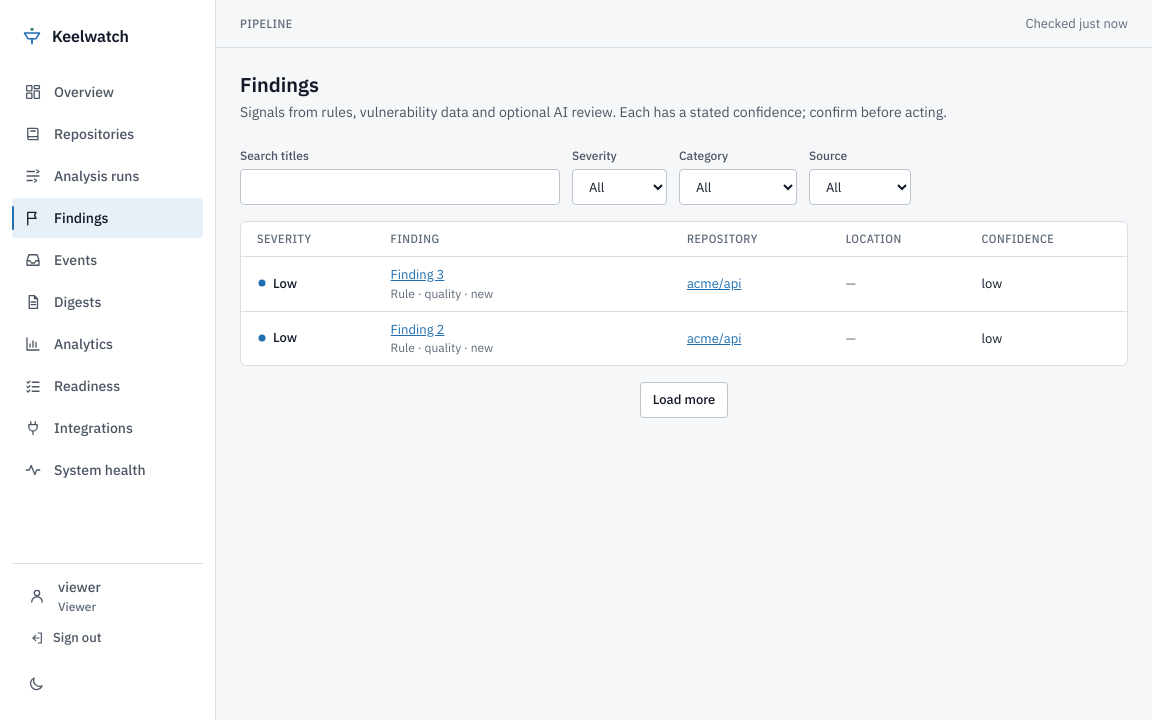
Test case: load more › retrying a failed "load more" keeps the pages already shown
What coordinates should you click on to do the following:
click the button "Load more"
I would click on:
 (684, 400)
Its box is [640,382,728,418].
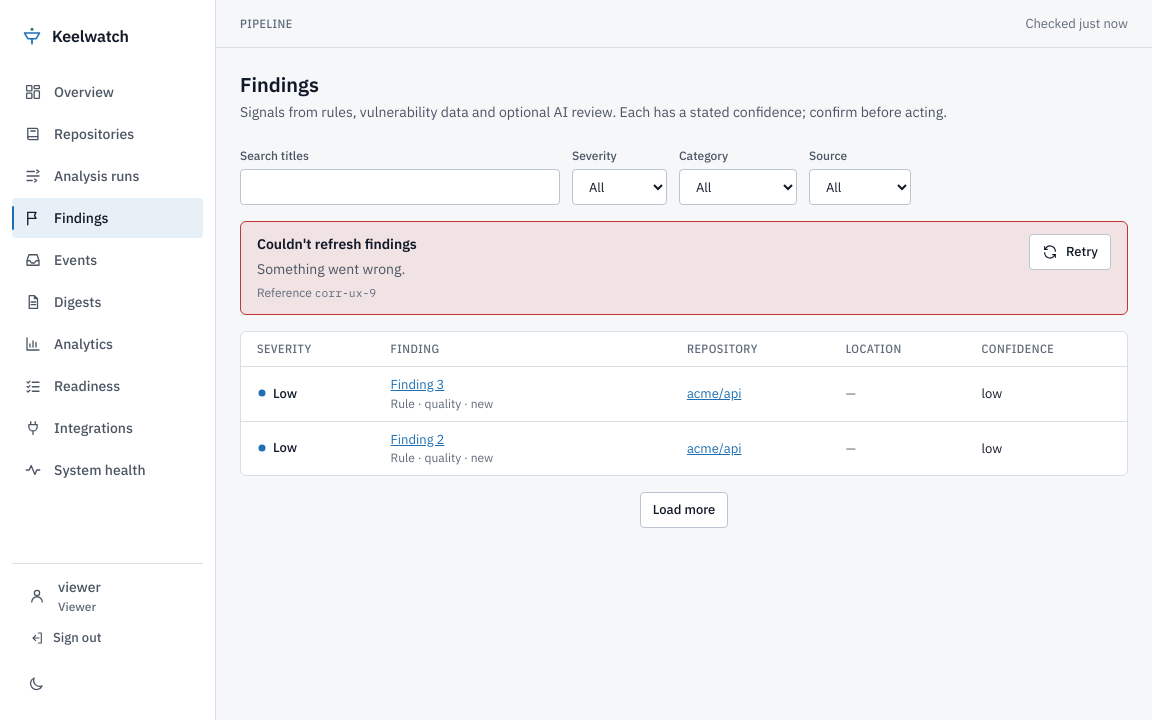
Expected: the link "Finding 3" is shown, [391,376,444,393]
Result: the text "Couldn't refresh findings" is shown at [257,234,417,255]
What coordinates should you click on to do the following:
click the button "Retry"
I would click on:
 (1070, 252)
Its box is [1029,234,1111,270].
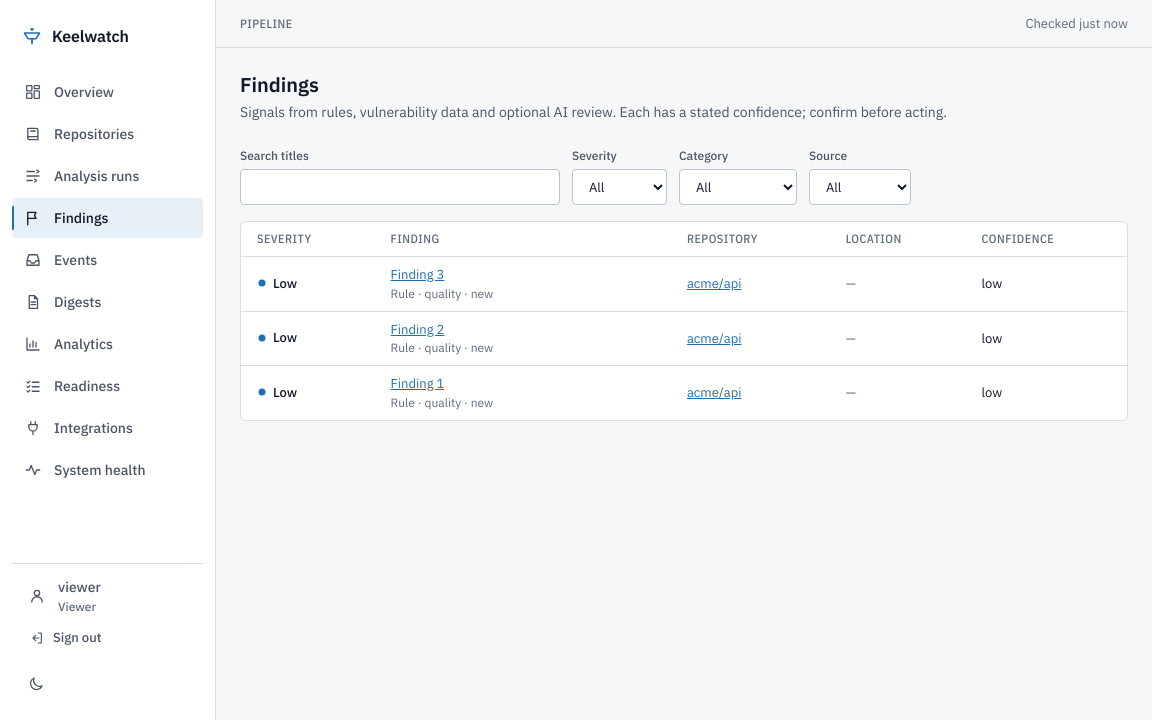
Expected: the link "Finding 3" is shown, [391,266,444,283]
Result: the link "Finding 1" is shown at [391,375,444,392]
